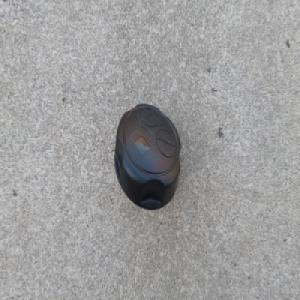FuelCap: (113, 102, 181, 211)
